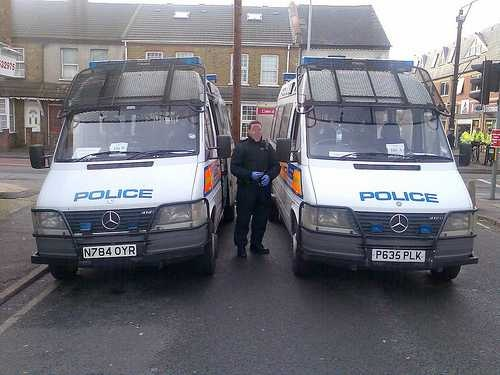Police Van: (275, 49, 496, 294), (37, 39, 214, 287)
